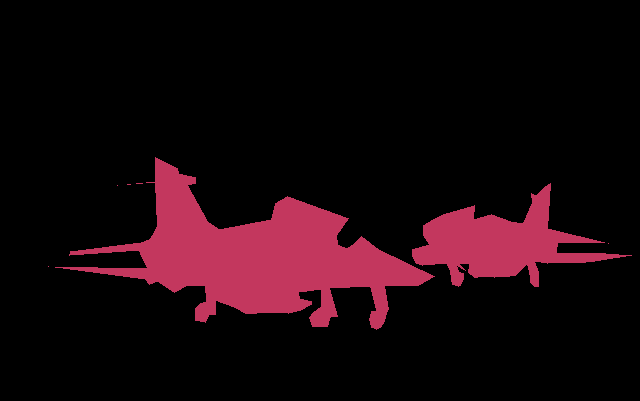Airplane: (48, 157, 434, 329), (412, 183, 631, 287)
